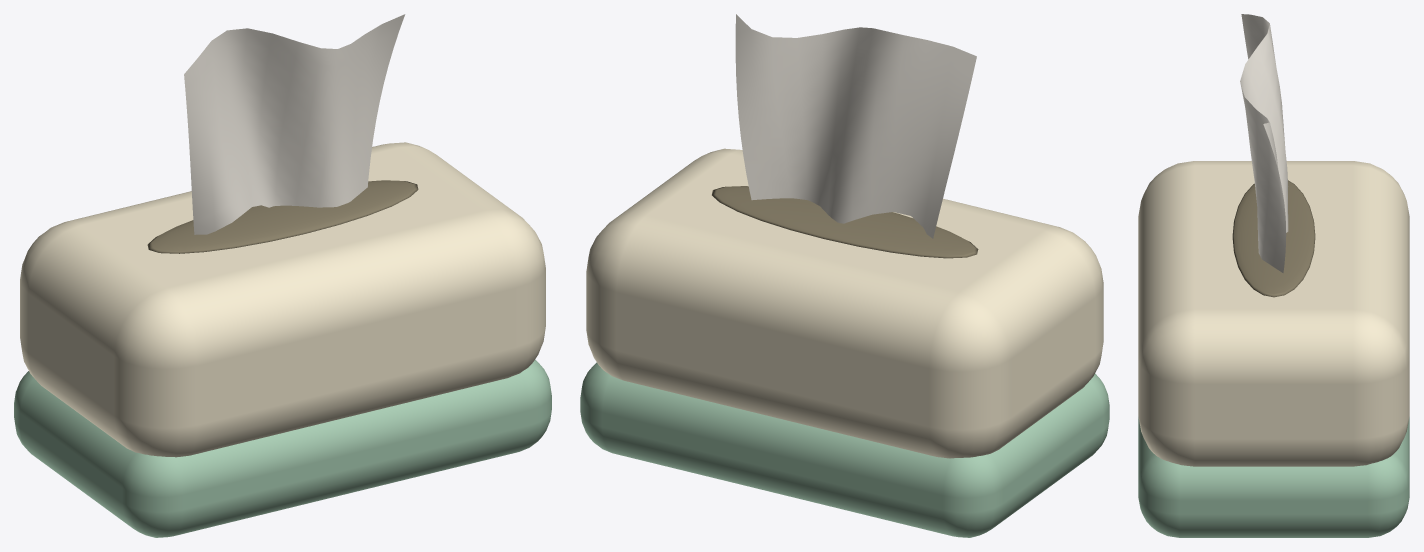
Rendered from tissue.glb.
3 renders of one model, left to right at view 1: azimuth 30°, elevation 25°; view 2: azimuth 150°, elevation 25°; view 3: azimuth 270°, elevation 25°, orthographic. The views are drawn at different scales.
Parts seen in each view (by area): view 1: Tissue_box_lid, Tissue_box_base, Tissue_single_sheet, Tissue_dispense_slot; view 2: Tissue_box_lid, Tissue_box_base, Tissue_single_sheet, Tissue_dispense_slot; view 3: Tissue_box_lid, Tissue_box_base, Tissue_single_sheet, Tissue_dispense_slot.
Part boxes in pixels (x1=…): Tissue_box_lid: x1=20, y1=142, x2=545, y2=457; Tissue_box_base: x1=14, y1=359, x2=551, y2=537; Tissue_single_sheet: x1=184, y1=14, x2=405, y2=234; Tissue_dispense_slot: x1=147, y1=180, x2=418, y2=253; Tissue_box_lid: x1=586, y1=148, x2=1103, y2=458; Tissue_box_base: x1=580, y1=362, x2=1109, y2=537; Tissue_single_sheet: x1=735, y1=14, x2=976, y2=238; Tissue_dispense_slot: x1=712, y1=186, x2=978, y2=258; Tissue_box_lid: x1=1138, y1=161, x2=1409, y2=466; Tissue_box_base: x1=1138, y1=417, x2=1409, y2=537; Tissue_single_sheet: x1=1240, y1=14, x2=1288, y2=272; Tissue_dispense_slot: x1=1232, y1=180, x2=1315, y2=297.
Size of the model in its own units: 0.6 by 0.5949 by 0.36.
